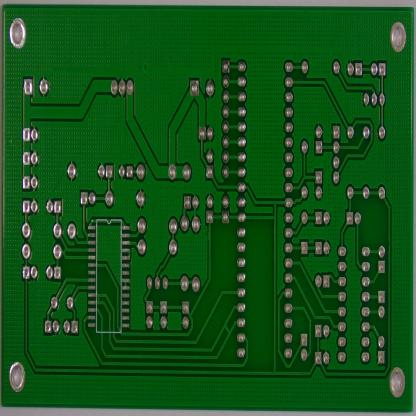short: (223, 322, 232, 340), (83, 230, 90, 244), (95, 291, 101, 306), (61, 246, 68, 258)
